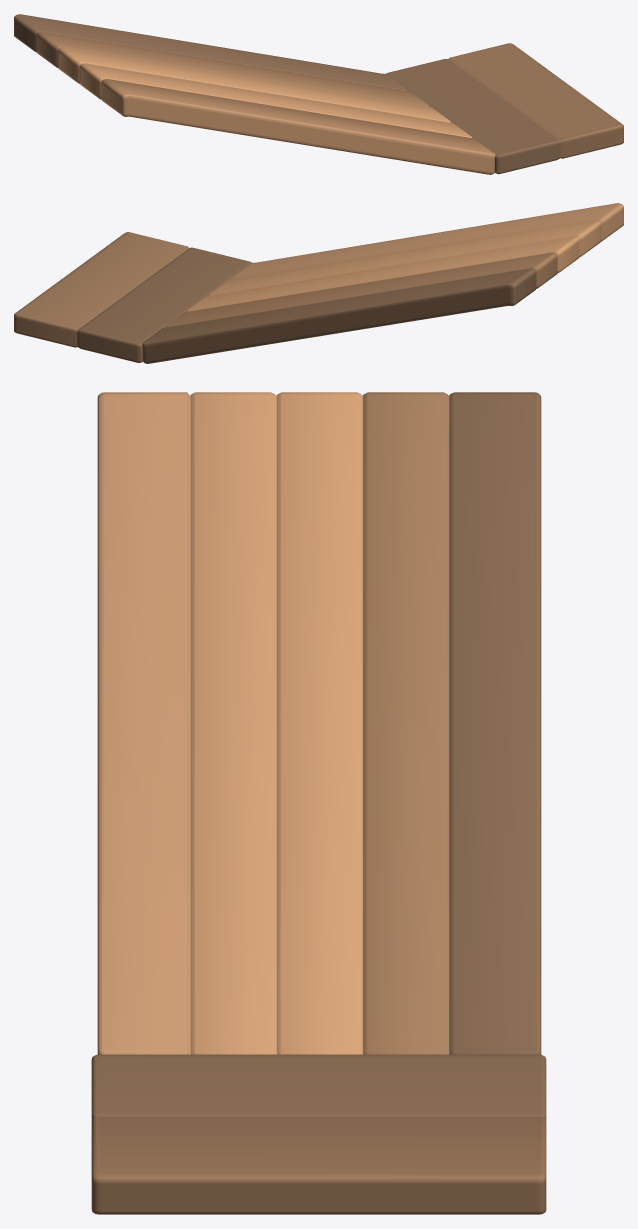
Rendered from HoopsRampFloor2.fbx.
3 views of the same model, one above another, from view 1: azimuth 30°, elevation 25°; view 2: azimuth 150°, elevation 25°; view 3: azimuth 270°, elevation 25° (orthographic). The views are drawn at different scales.
Visible parts, largest first — view 1: ENv_S02_Ramp_MO_2, ENv_S02_Ramp_MO_3; view 2: ENv_S02_Ramp_MO_2, ENv_S02_Ramp_MO_3; view 3: ENv_S02_Ramp_MO_2, ENv_S02_Ramp_MO_3.
Boxes of the visible parts, x1,y1,x2,y2 form: ENv_S02_Ramp_MO_2: (14,14,495,174); ENv_S02_Ramp_MO_3: (386,43,623,174); ENv_S02_Ramp_MO_2: (142,203,623,363); ENv_S02_Ramp_MO_3: (14,232,252,362); ENv_S02_Ramp_MO_2: (97,392,541,1054); ENv_S02_Ramp_MO_3: (91,1054,546,1214).
Bounding box in the file's own units: 30.02 × 9.7 × 11.82.
